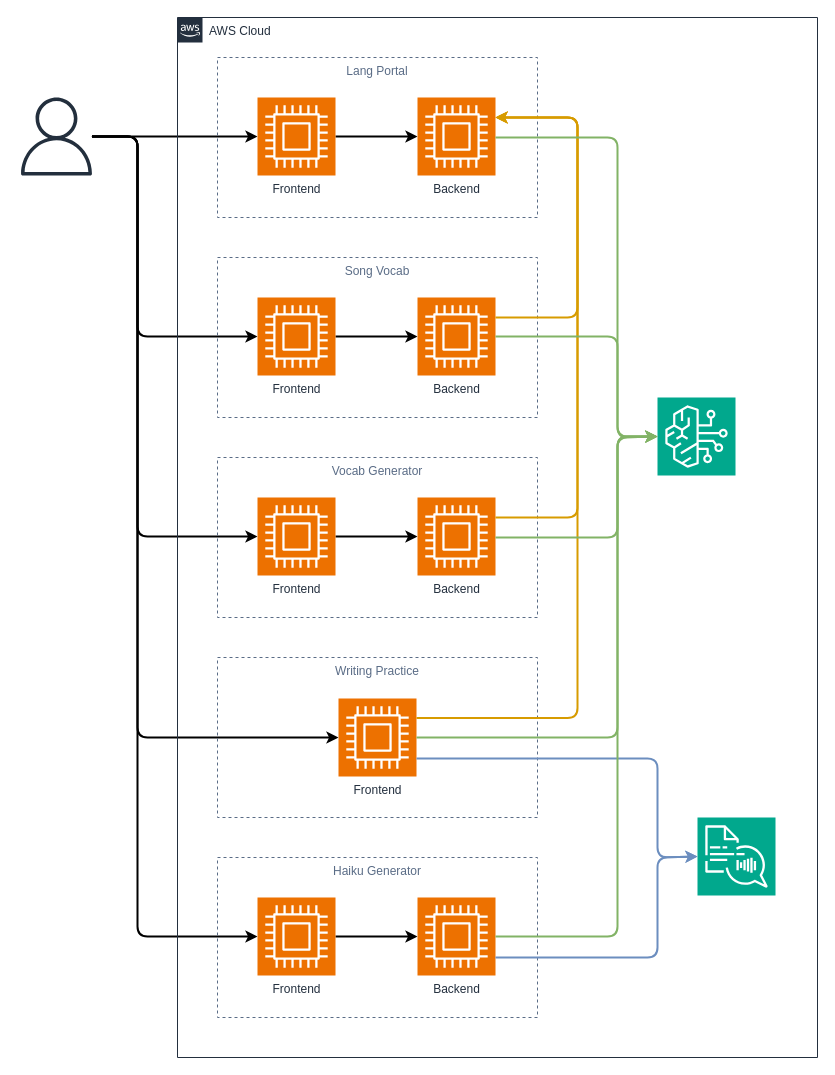
The diagram is 835 pixels wide and 1075 high, and some of its shapes have lost their labels. The centre of each missing label's shape, as x and y in pixels:
"Bedrock" goes at pixel 696 436.
"Polly" goes at pixel 736 856.
"Student" goes at pixel 56 136.
